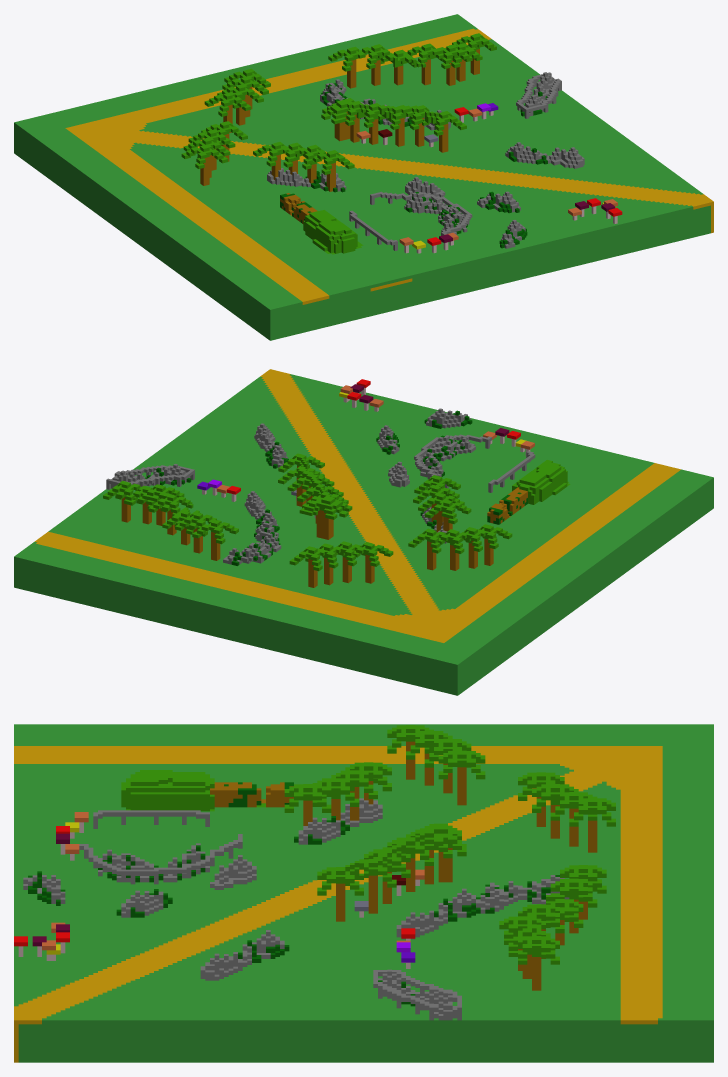
File: map_Second_Stage-6.obj
3 views of the same model, one above another, from view 1: azimuth 30°, elevation 25°; view 2: azimuth 150°, elevation 25°; view 3: azimuth 270°, elevation 25° (orthographic). The views are drawn at different scales.
Bounding box in the file's own units: 15 × 2.2 × 15.
Materials: 1 (1 with a texture image).
